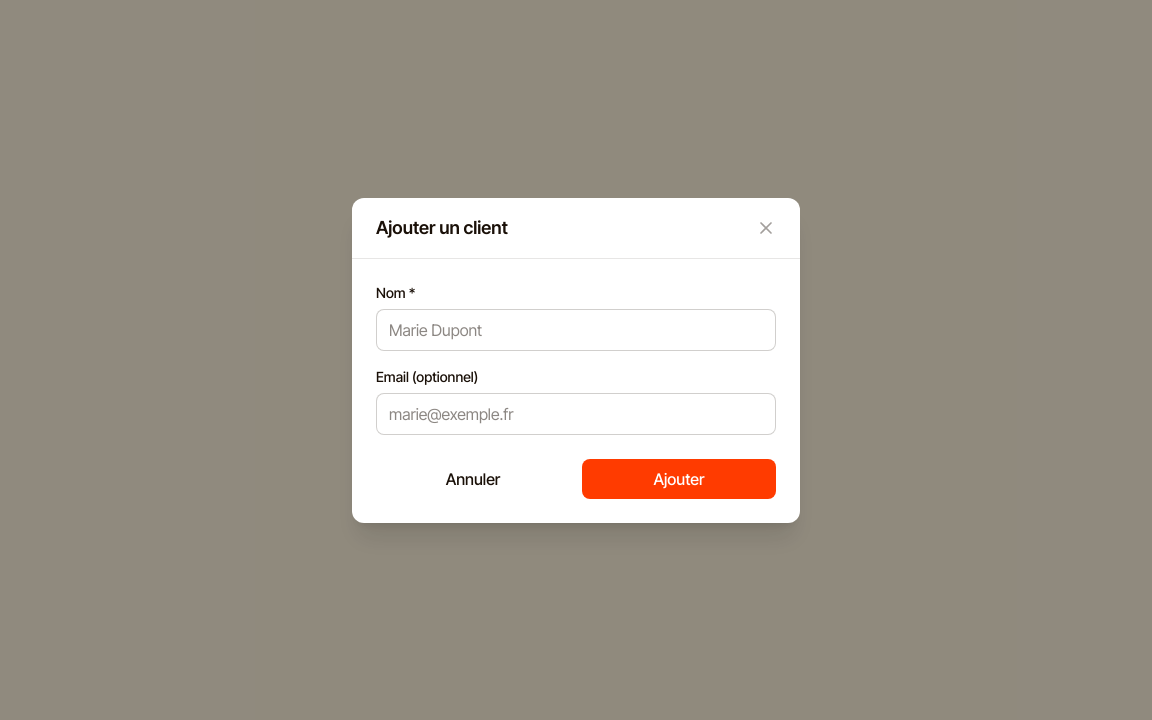
Test: AddCustomerModal › bloque le submit et affiche une erreur Zod si le nom est vide
The width and height of the screenshot is (1152, 720).
Click the button "Ajouter".
click(679, 478)  # box [582,458,776,498]
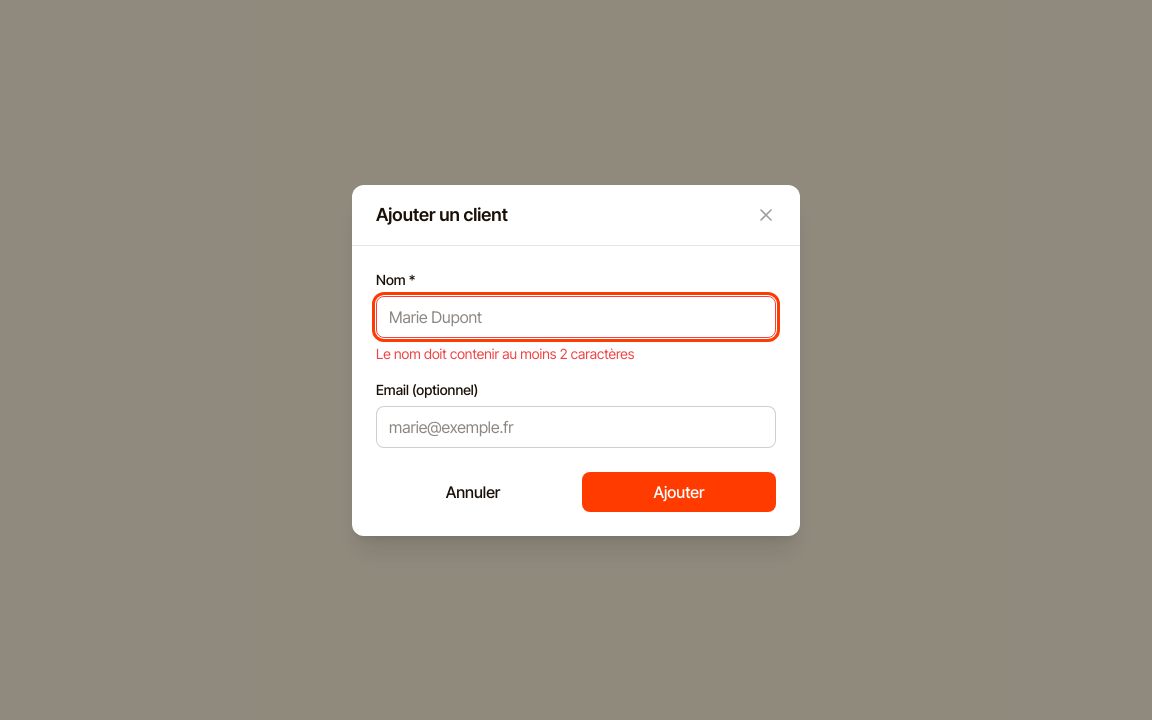
Expected: the text "Le nom doit contenir au moins 2 caractères" is shown, [376,344,634,362]
